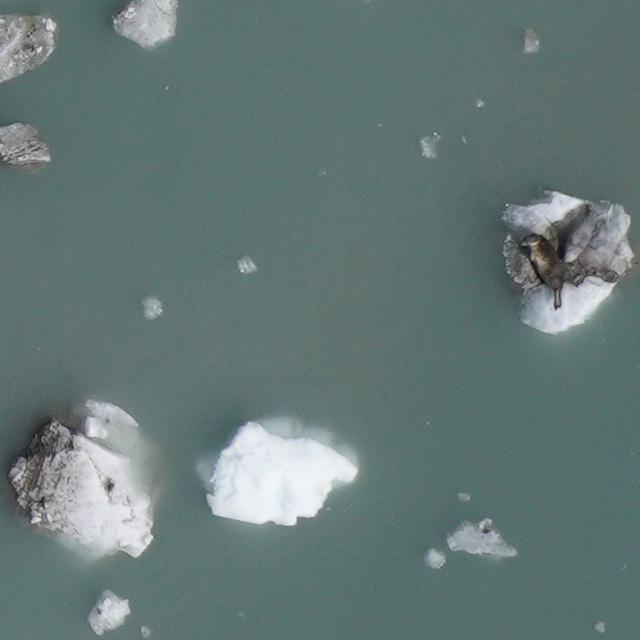seal: (508, 227, 587, 312)
